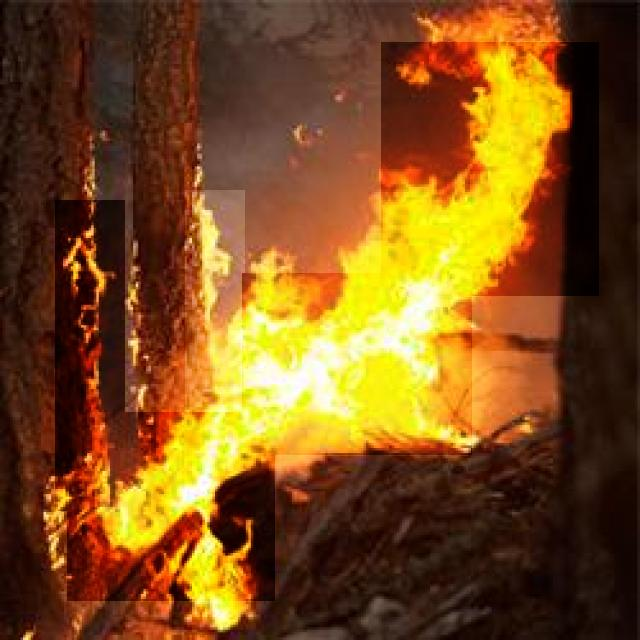Fire: (382, 42, 600, 296), (242, 273, 472, 455), (67, 412, 275, 601), (56, 200, 126, 511), (185, 190, 245, 413)
